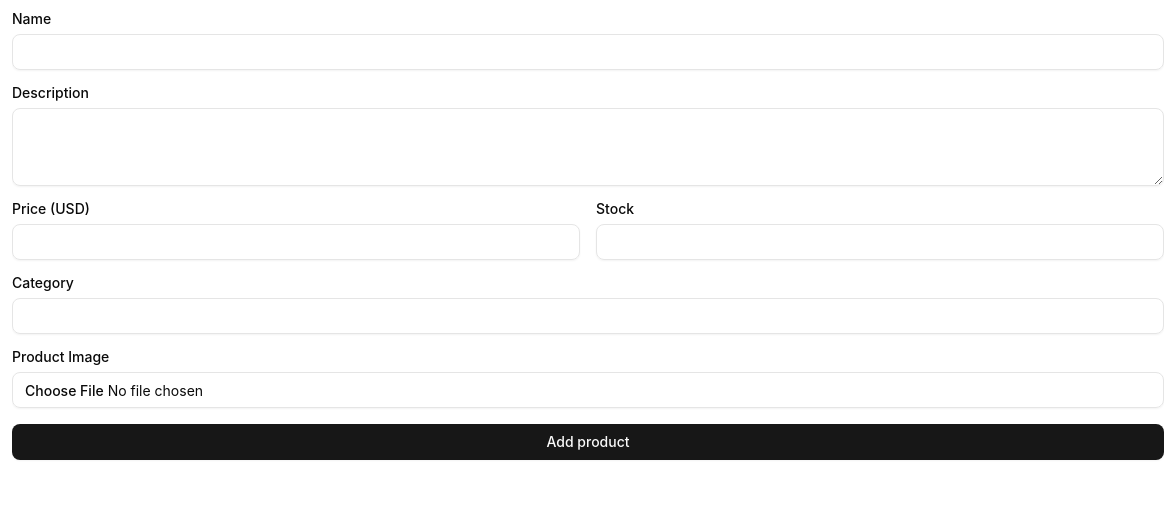
it: ProductForm › shows a validation error for a negative price
The width and height of the screenshot is (1176, 505).
Type "Valid Name" into the field labelled "Name" at (588, 52), box 12,34 -> 1164,70
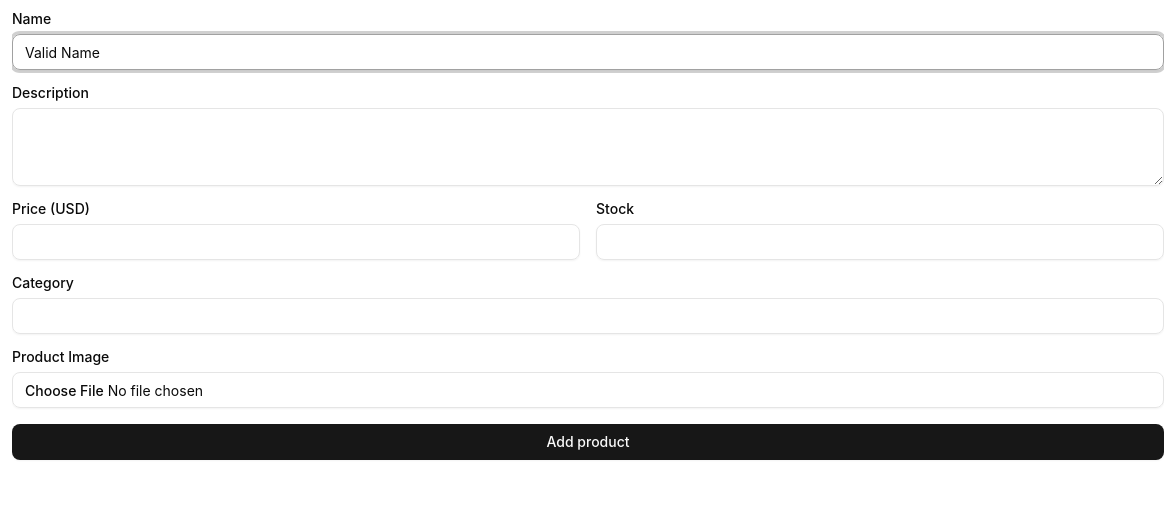
Type "-5" into the number field labelled "Price (USD)" at (296, 242), box 12,224 -> 580,260
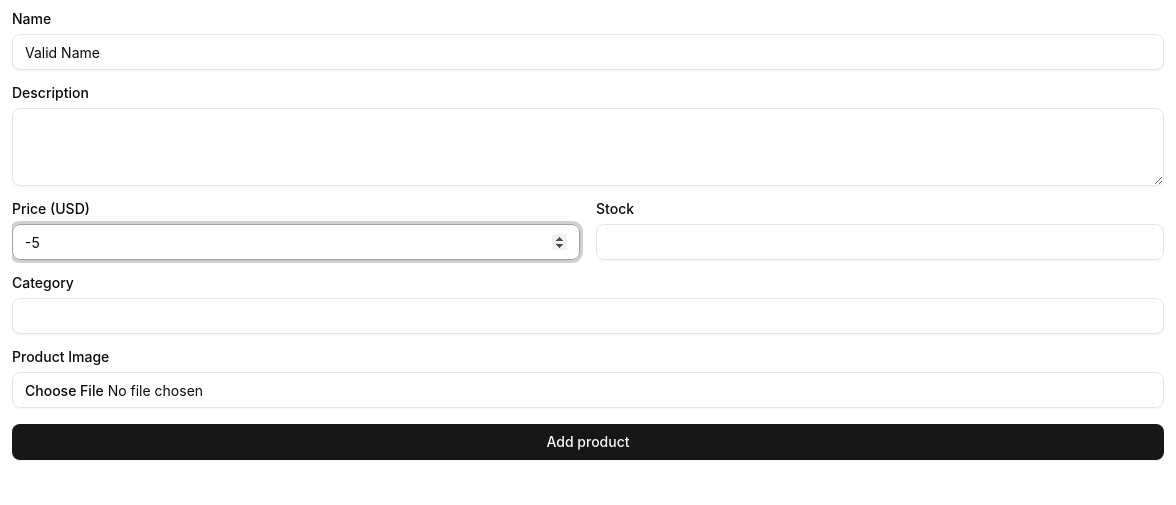
Type "1" into the number field labelled "Stock" at (880, 242), box 596,224 -> 1164,260
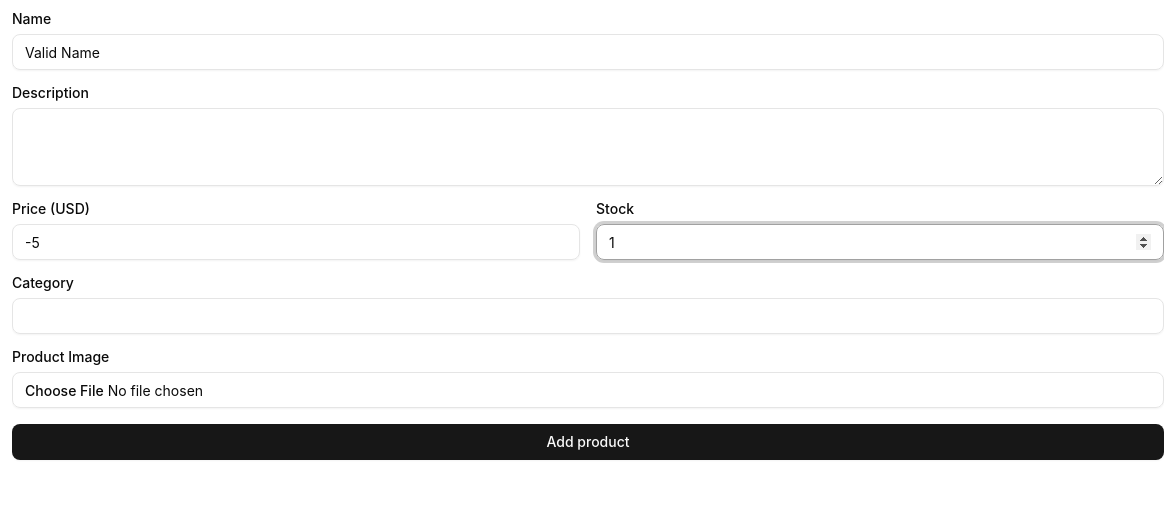
Type "misc" into the field labelled "Category" at (588, 316), box 12,298 -> 1164,334
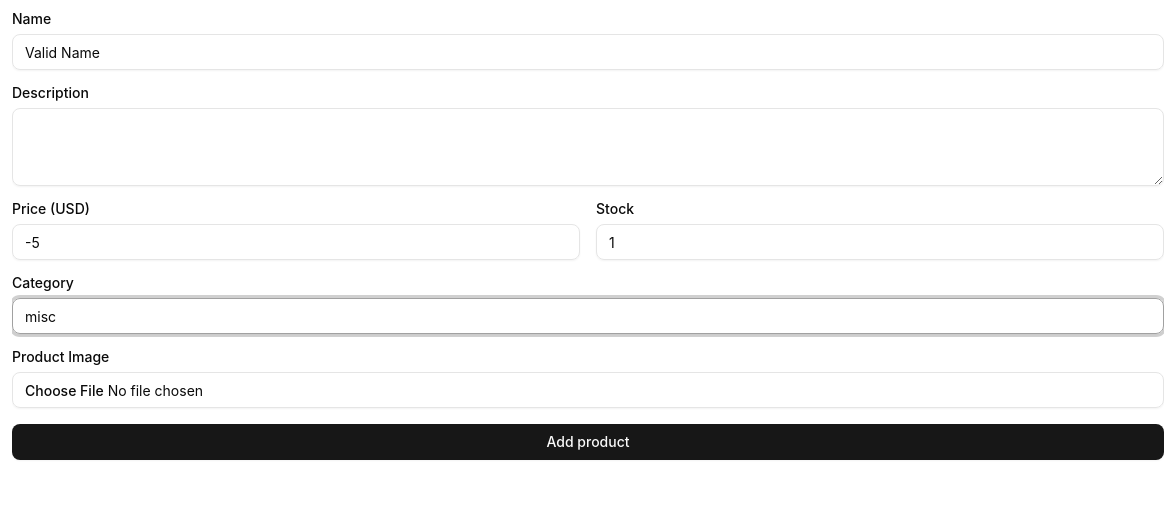
Click the button "Add product" at (588, 442), box 12,424 -> 1164,460
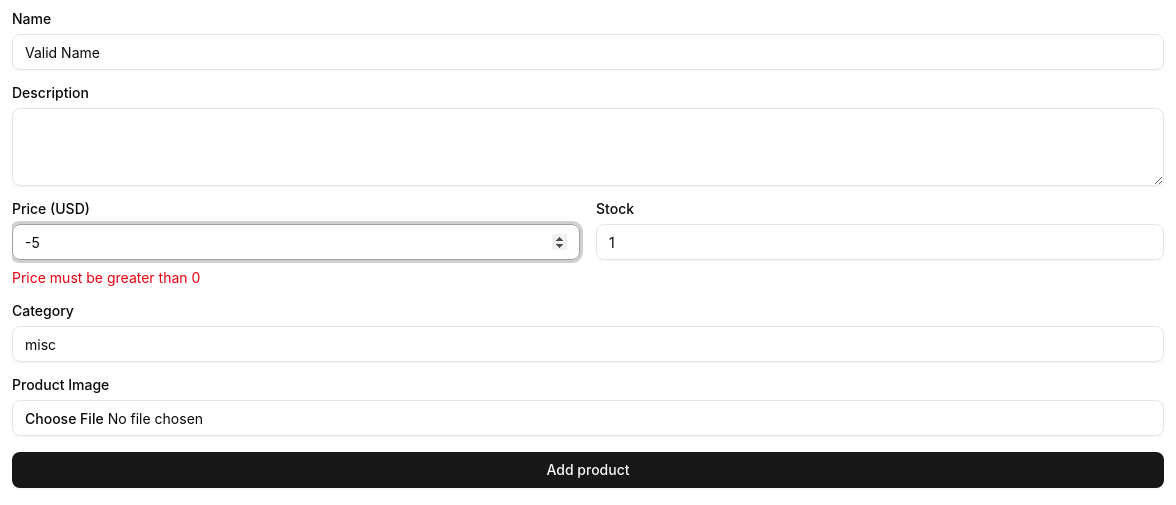
Expected: the message "Price must be greater than 0" is shown, 12,269 -> 200,286
